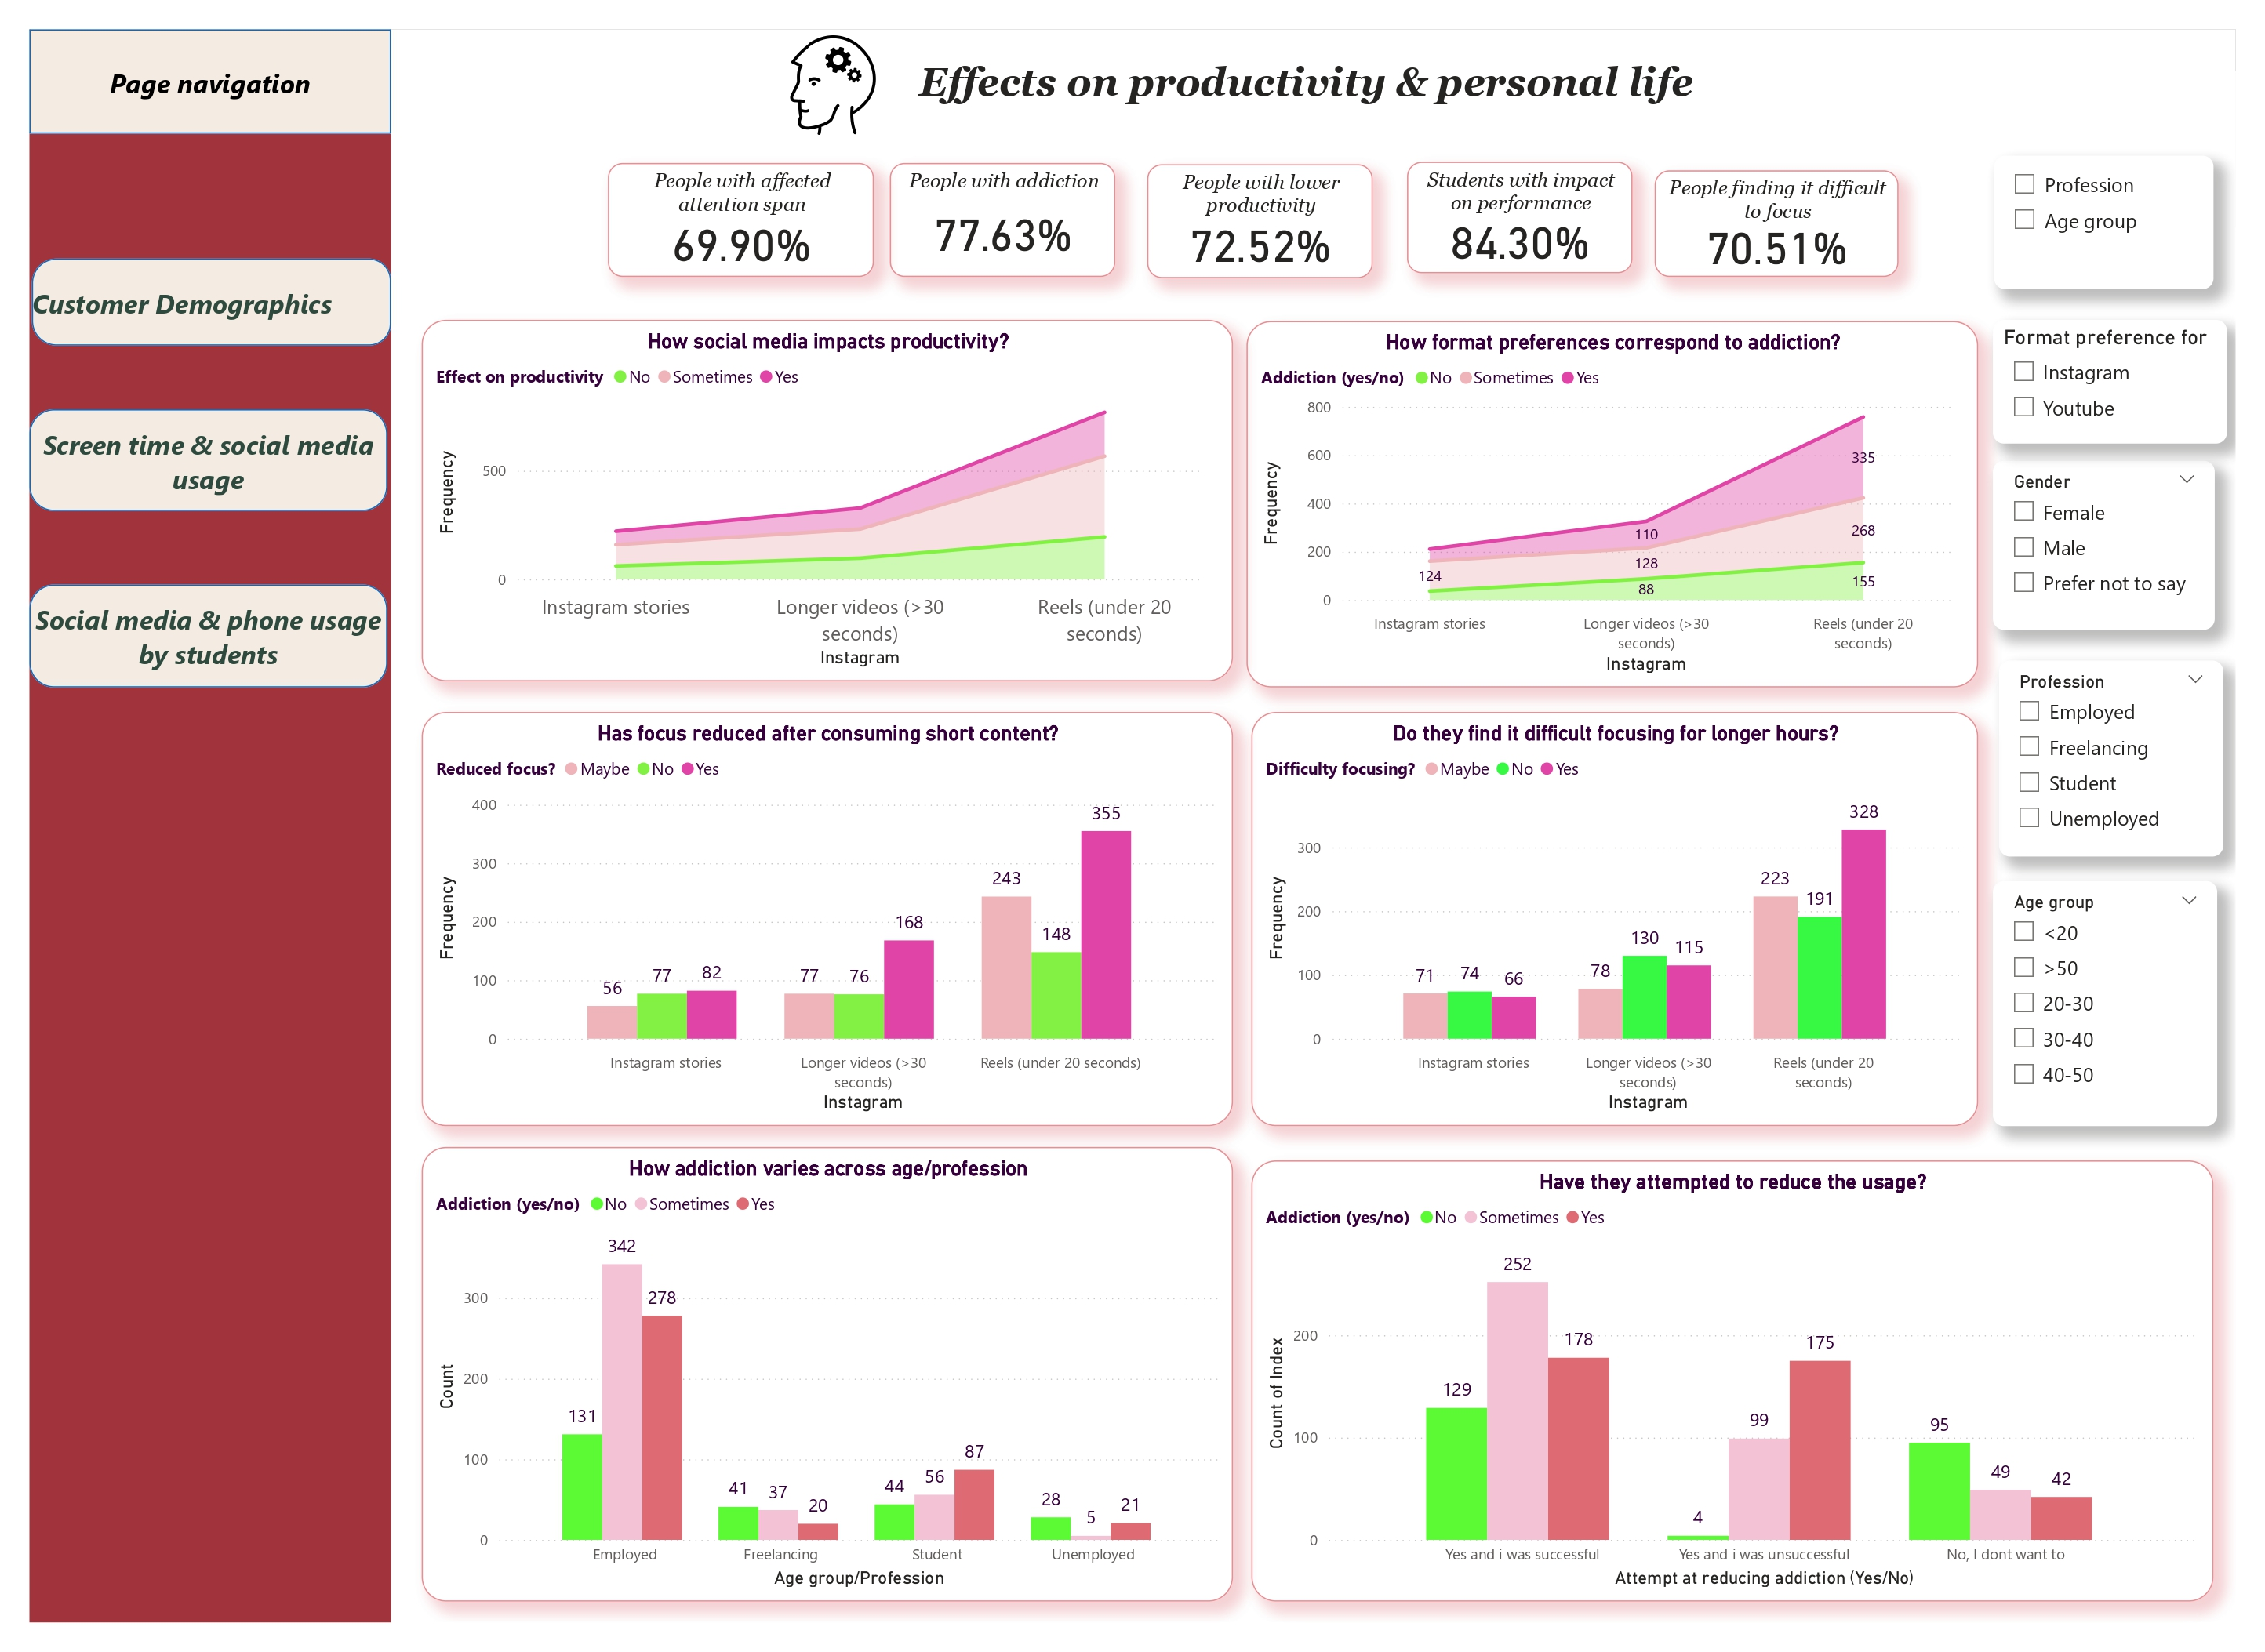

Layout of this report page (visuals, bound fields, positions):
{"tool":"powerbi","page":{"name":"Effects on productivity and personal life","canvas":[1800,1300],"ordinal":3},"visuals":[{"type":"image","box":[609,-0.3,91.7,91.7],"z":0},{"type":"stackedAreaChart","title":"How social media impacts productivity?","fields":{"Category":["final_survey.Format preference instagram","final_survey.Format preference youtube"],"Y":["Count(final_survey.Index)"],"Series":["final_survey.Effect on productivity"]},"box":[320,236.7,661.7,295],"z":1000},{"type":"stackedAreaChart","title":"How format preferences correspond to addiction?","fields":{"Category":["final_survey.Format preference instagram","final_survey.Format preference youtube"],"Y":["Count(final_survey.Index)"],"Series":["final_survey.Addiction (yes/no)"]},"box":[993.3,238.3,596.7,298.3],"z":2000},{"type":"clusteredColumnChart","title":"Have they attempted to reduce the usage?","fields":{"Category":["final_survey.Attempt at reducing addiction (Yes/No)"],"Y":["Count(final_survey.Index)"],"Series":["final_survey.Addiction (yes/no)"]},"box":[996.7,923.3,785,360],"z":3000},{"type":"clusteredColumnChart","title":"Has focus reduced after consuming short content?","fields":{"Category":["final_survey.Format preference instagram","final_survey.Format preference youtube"],"Y":["Count(final_survey.Index)"],"Series":["final_survey.Reduced focus?"]},"box":[320,556.7,661.7,338.3],"z":4000},{"type":"slicer","fields":{"Values":["final_survey.Profession"]},"box":[1606.7,515,183.3,160],"z":5000},{"type":"slicer","fields":{"Values":["final_survey.Gender"]},"box":[1601.7,351.7,181.7,138.3],"z":6000},{"type":"slicer","title":"Format preference for","fields":{"Values":["Instagram/Youtube.Instagram/Youtube"]},"box":[1601.7,236.7,191.7,101.7],"z":7000},{"type":"clusteredColumnChart","title":"Do they find it difficult focusing for longer hours?","fields":{"Category":["final_survey.Format preference instagram","final_survey.Format preference youtube"],"Y":["Count(final_survey.Index)"],"Series":["final_survey.Difficulty focusing?"]},"box":[996.7,556.7,593.3,338.3],"z":8000},{"type":"clusteredColumnChart","title":"How addiction varies across age/profession","fields":{"Category":["final_survey.Profession","final_survey.Age group"],"Series":["final_survey.Addiction (yes/no)"],"Y":["Count(final_survey.Index)"]},"box":[320,911.7,661.7,371.7],"z":9000},{"type":"slicer","fields":{"Values":["final_survey.Age group"]},"box":[1601.7,695,183.3,200],"z":10000},{"type":"textbox","box":[700.7,19.7,681.7,55],"z":11000},{"type":"textbox","box":[0,0,295,1300],"z":12000},{"type":"shape","box":[0,0,295,85],"z":13000},{"type":"shape","box":[1.7,186.7,293.3,71.7],"z":14000},{"type":"shape","box":[0,310,291.7,83.3],"z":15000},{"type":"shape","box":[0,453.3,291.7,83.3],"z":16000},{"type":"card","title":"People with affected attention span","fields":{"Values":["final_student_survey.attention_span_yes %"]},"box":[471.8,109,217.1,92.9],"z":17000},{"type":"card","title":"People with addiction","fields":{"Values":["final_survey.addiction_yes %"]},"box":[701.8,109,184.3,92.9],"z":18000},{"type":"card","title":"People with lower productivity","fields":{"Values":["final_survey.Productivity %"]},"box":[911.8,110.4,184.3,92.9],"z":19000},{"type":"card","title":"People finding it difficult to focus","fields":{"Values":["final_survey.Diff in focusing %"]},"box":[1326.1,114.7,198.6,87.1],"z":20000},{"type":"card","title":"Students with impact on performance","fields":{"Values":["final_student_survey.Performance_impacted_yes"]},"box":[1124.3,107.7,183.3,91.7],"z":21000},{"type":"slicer","fields":{"Values":["Age/Profession.Age/Profession"]},"box":[1603.3,103.3,178.3,108.3],"z":22000}]}

Visuals, with their boxes in screenshot pixels (x1, y1, x2, y2):
image: 776:30:889:141
"How social media impacts productivity?" stackedAreaChart: 422:319:1233:681
"How format preferences correspond to addiction?" stackedAreaChart: 1247:321:1978:687
"Have they attempted to reduce the usage?" clusteredColumnChart: 1251:1161:2213:1602
"Has focus reduced after consuming short content?" clusteredColumnChart: 422:712:1233:1126
slicer - final_survey.Profession: 1998:660:2223:857
slicer - final_survey.Gender: 1993:460:2216:630
"Format preference for" slicer: 1993:319:2227:444
"Do they find it difficult focusing for longer hours?" clusteredColumnChart: 1251:712:1978:1126
"How addiction varies across age/profession" clusteredColumnChart: 422:1147:1233:1603
slicer - final_survey.Age group: 1993:881:2217:1126
textbox: 889:53:1724:121
textbox: 30:30:391:1622
shape: 30:30:391:133
shape: 31:258:391:346
shape: 30:409:387:511
shape: 30:585:387:687
"People with affected attention span" card: 608:163:874:277
"People with addiction" card: 889:163:1115:277
"People with lower productivity" card: 1147:165:1372:278
"People finding it difficult to focus" card: 1655:170:1898:277
"Students with impact on performance" card: 1408:162:1632:274
slicer - Age/Profession.Age/Profession: 1994:156:2213:289
